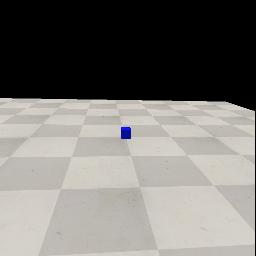box: (121, 127, 131, 139)
